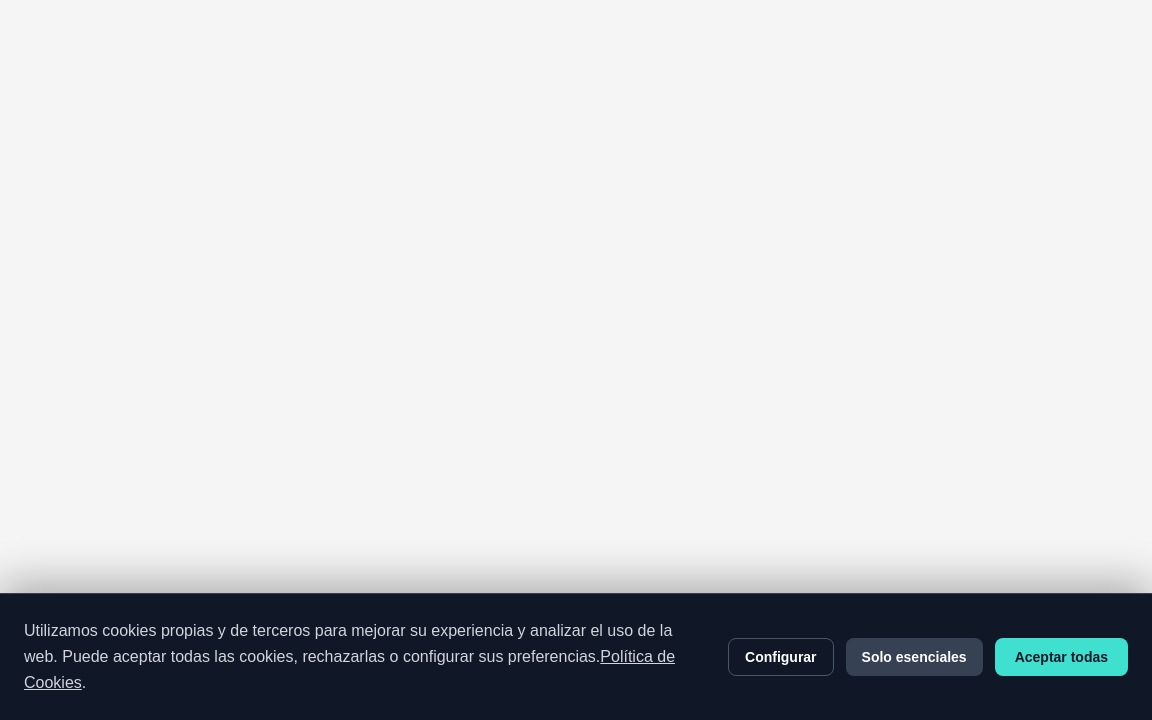
CookiesBanner › debe mostrar la vista de configuración al pulsar Configurar
Click the button "Configurar".
click(781, 657)  # box [728,638,834,676]
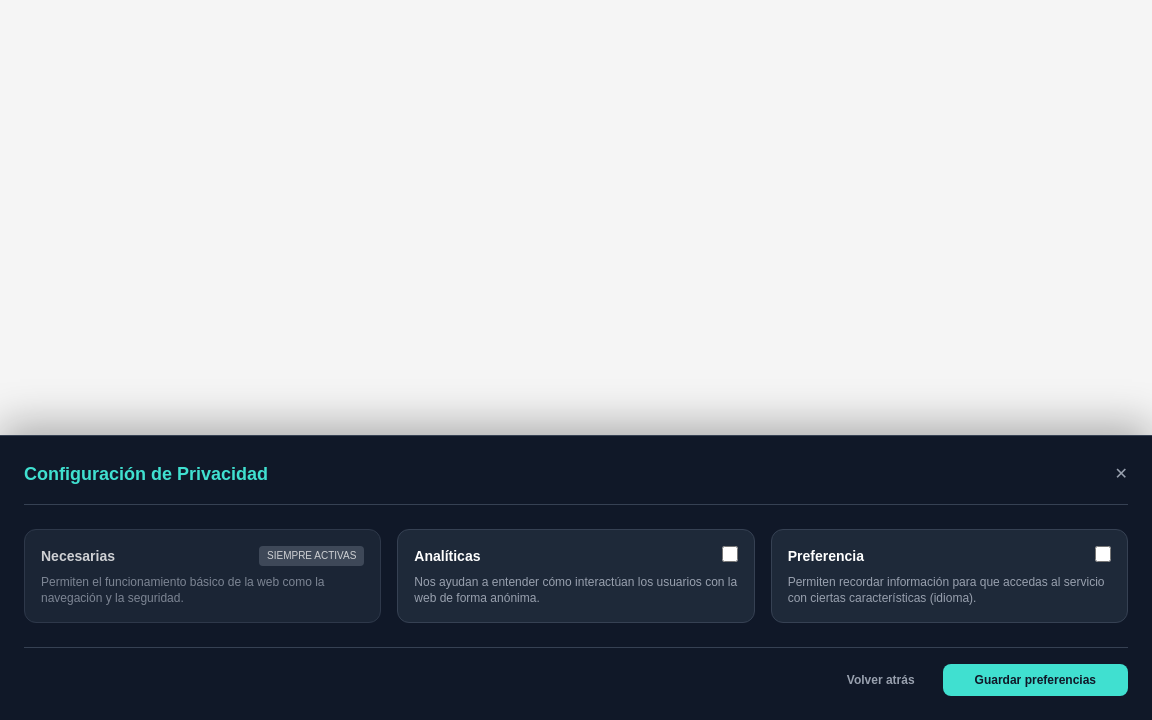
Check: the button "Guardar preferencias" is shown, box [943,664,1128,696]
